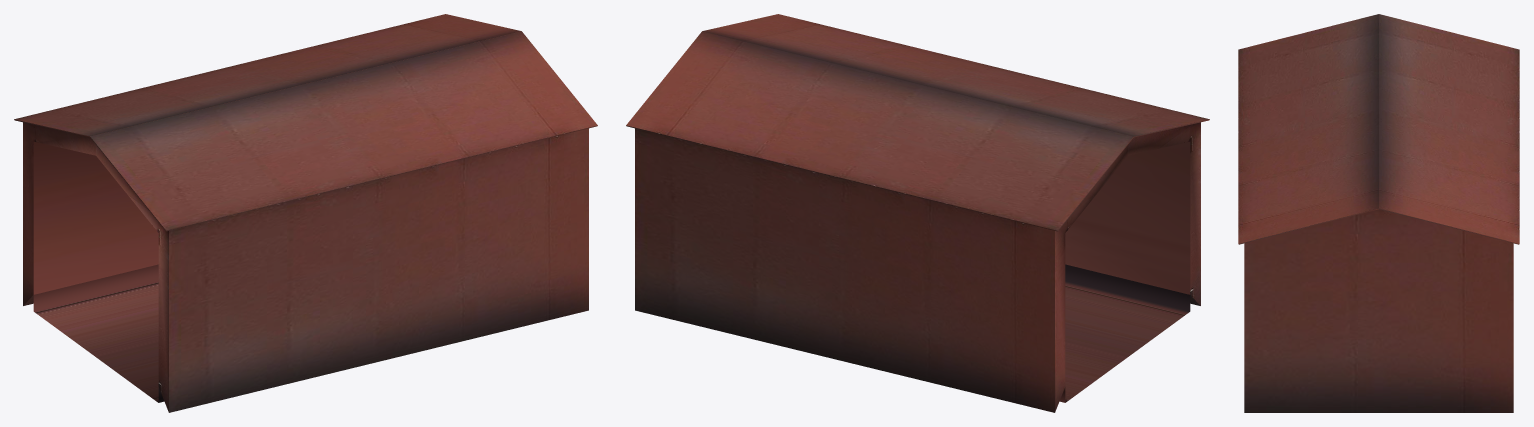
Rendered from sibir_garaz2.fbx.
3 views of the same model, side by side, from view 1: azimuth 30°, elevation 25°; view 2: azimuth 150°, elevation 25°; view 3: azimuth 270°, elevation 25° (orthographic). The views are drawn at different scales.
Parts seen in each view (by area): view 1: garage; view 2: garage; view 3: garage.
Boxes of the visible parts, box(x1,y1,x2,y2) form: garage: box(14, 14, 597, 412); garage: box(626, 14, 1209, 412); garage: box(1238, 14, 1519, 412).
Bounding box in the file's own units: 4.75 × 2.36 × 2.9.
Materials: 1 (1 with a texture image).
